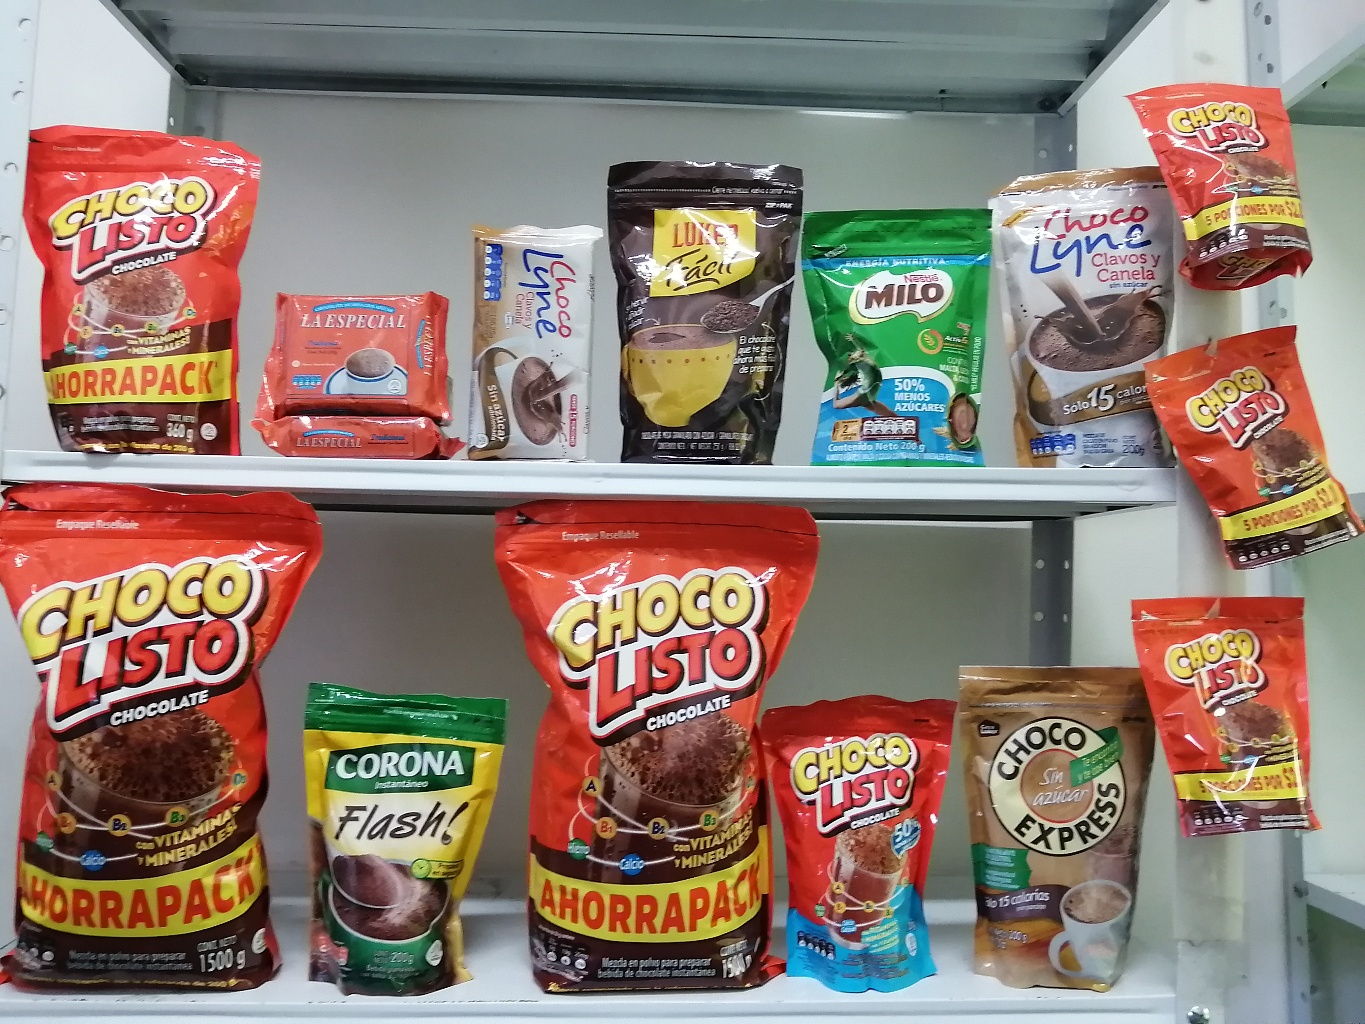COL0170103DYP1,500: (481, 485, 825, 1001)
COL0170103DYP36000: (5, 88, 259, 461)
COL0170104DYP20000: (745, 681, 975, 1002)
COL0170205DYP20000: (790, 199, 1021, 466)
